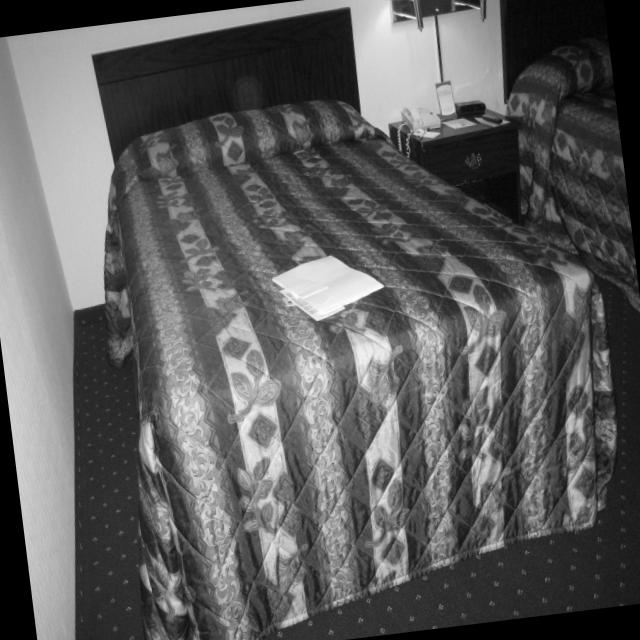alarm: (453, 99, 485, 114)
bed -occluded-: (91, 8, 619, 640)
floor -X: (75, 157, 640, 640)
notes: (274, 255, 383, 317)
phone charger: (400, 105, 440, 131)
remote: (481, 113, 502, 123)
wall clock: (8, 0, 622, 315), (0, 38, 75, 640)
